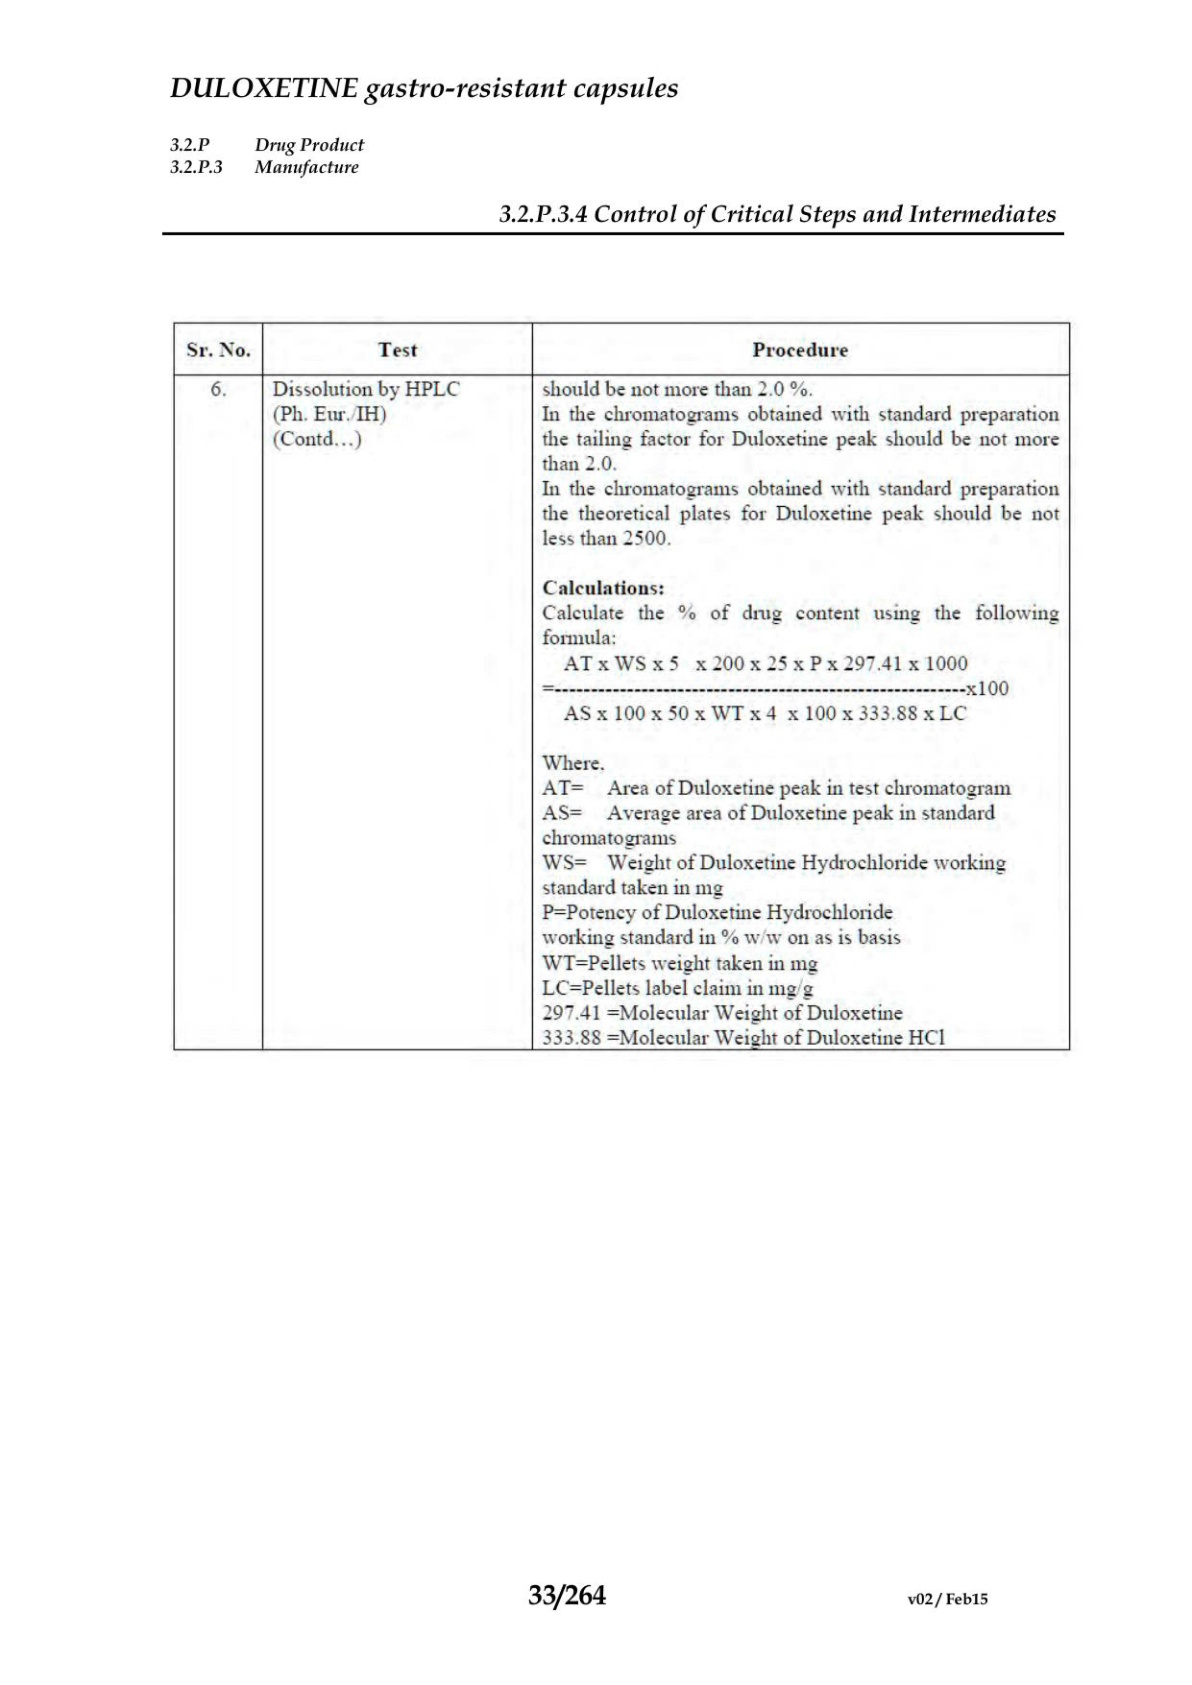full_lined: (172, 323, 1071, 1052)
